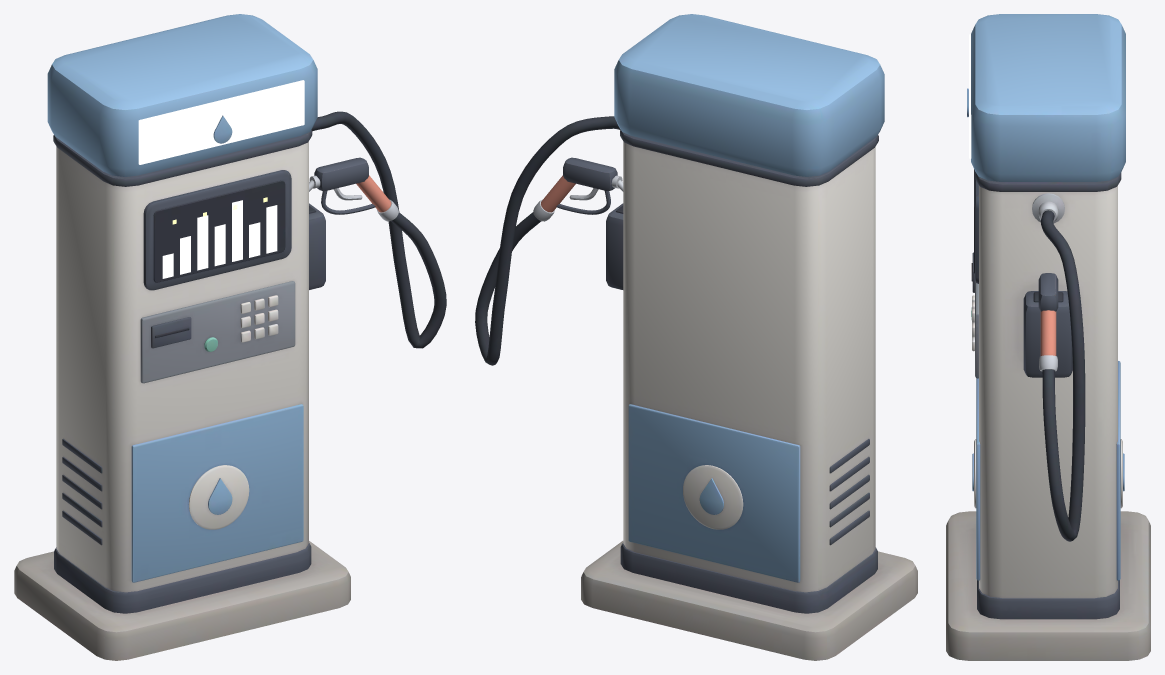
Rendered from arch_gas_pump.glb.
3 views of the same model, side by side, from view 1: azimuth 30°, elevation 25°; view 2: azimuth 150°, elevation 25°; view 3: azimuth 270°, elevation 25° (orthographic).
Parts seen in each view (by area): view 1: gas-pump_body, gas-pump_lightbox_glow, gas-pump_display_lens, gas-pump_nozzle; view 2: gas-pump_body, gas-pump_nozzle; view 3: gas-pump_body, gas-pump_nozzle.
Boxes of the visible parts, x1=… form: gas-pump_body: x1=14, y1=14, x2=446, y2=660; gas-pump_lightbox_glow: x1=138, y1=80, x2=304, y2=164; gas-pump_display_lens: x1=162, y1=197, x2=277, y2=278; gas-pump_nozzle: x1=309, y1=157, x2=398, y2=221; gas-pump_body: x1=475, y1=14, x2=917, y2=660; gas-pump_nozzle: x1=533, y1=157, x2=623, y2=221; gas-pump_body: x1=946, y1=14, x2=1150, y2=660; gas-pump_nozzle: x1=1038, y1=273, x2=1058, y2=371.
Bounding box in the file's own units: 1.38 × 1.8 × 0.62.
5 materials, 2 textured.
